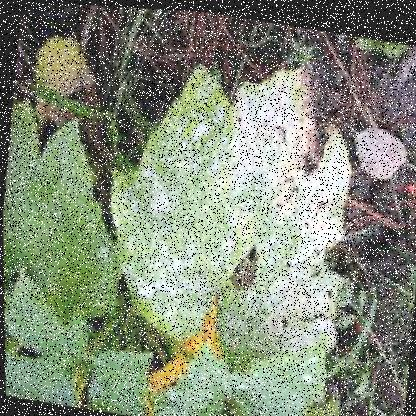PowderyMildew: (130, 114, 255, 298)
